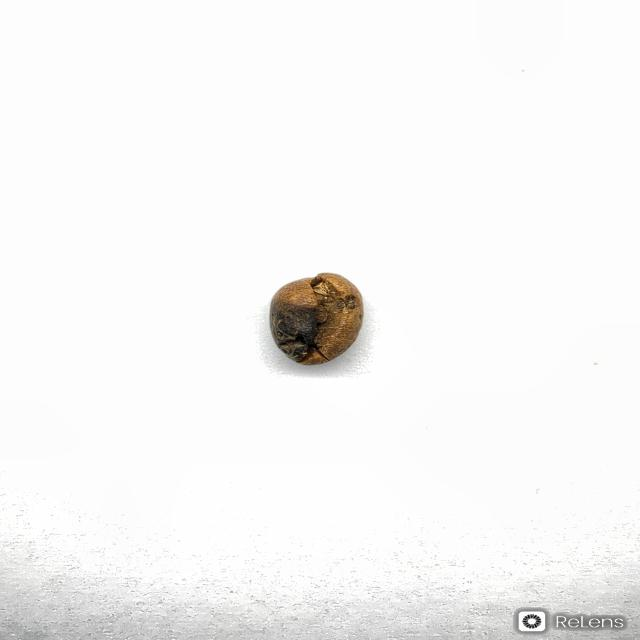Insect damage: (268, 271, 364, 366)
